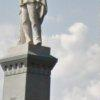Statue: (10, 2, 58, 51)
